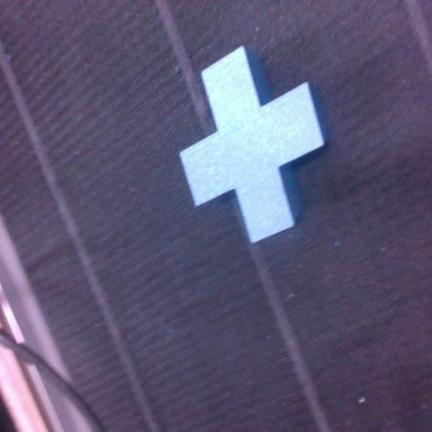cross: (181, 48, 324, 242)
